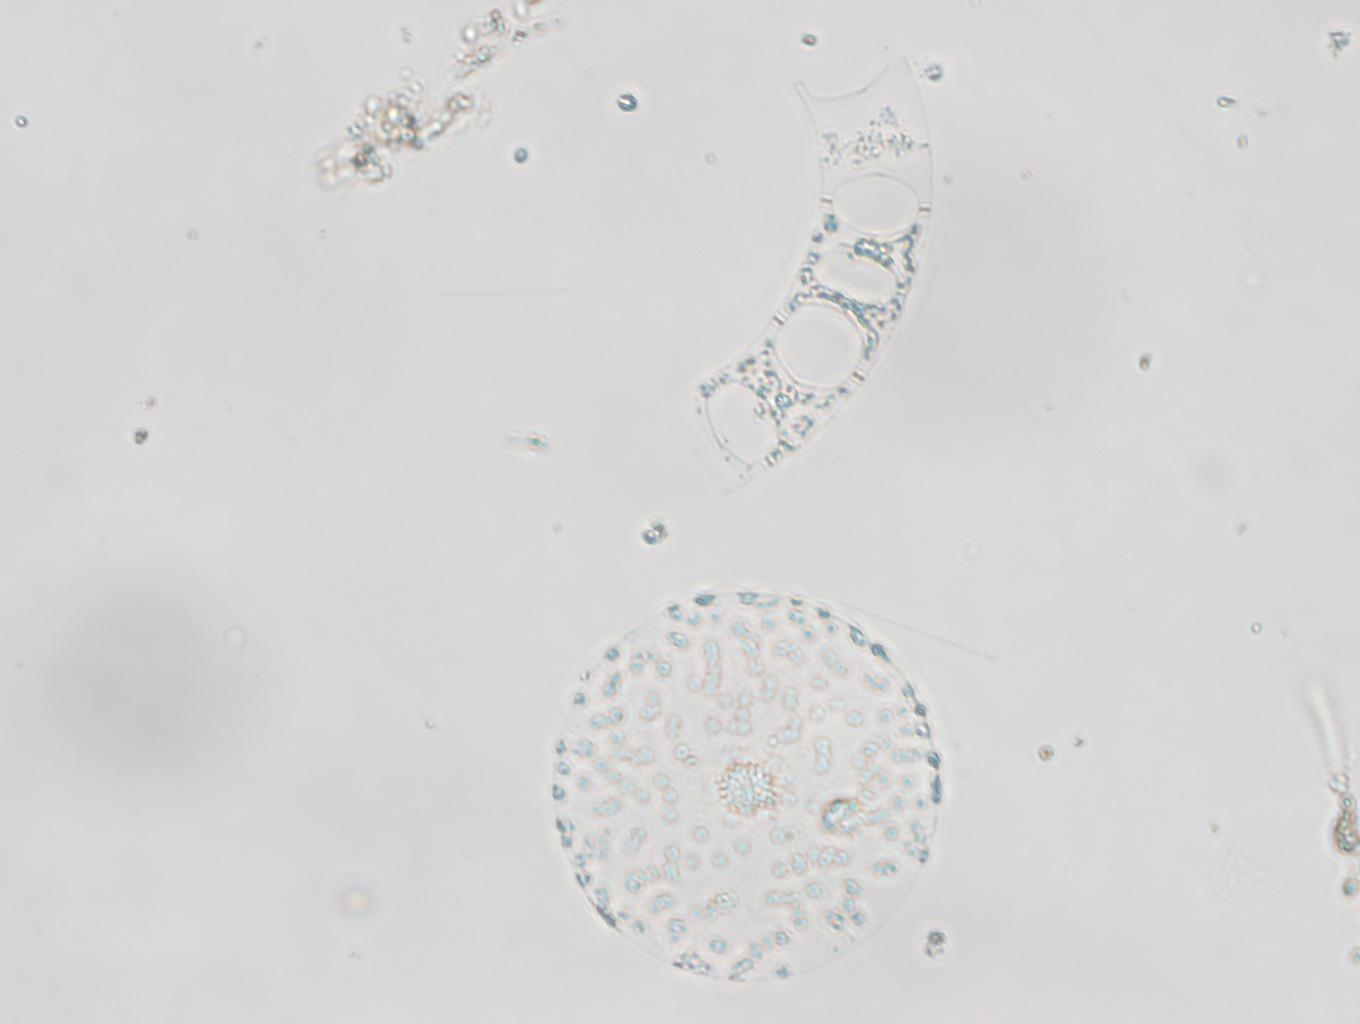coscinodiscus: (543, 583, 949, 993)
eucampia: (677, 44, 937, 487)
